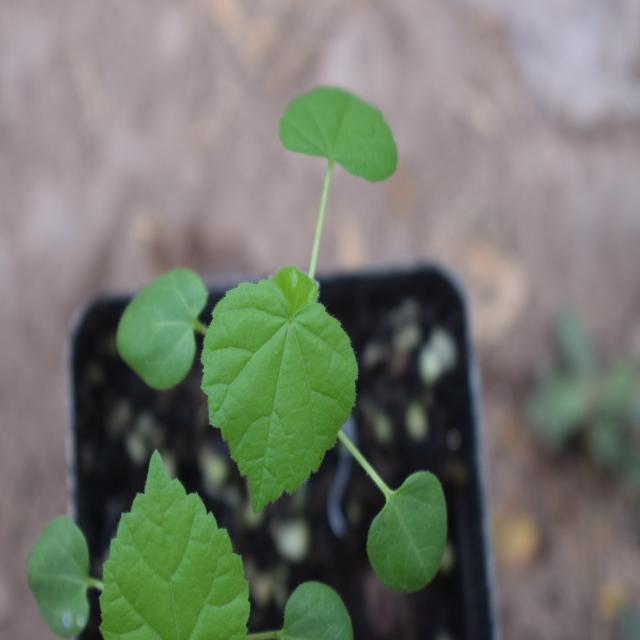abutilon theophrasti: (146, 76, 457, 592)
